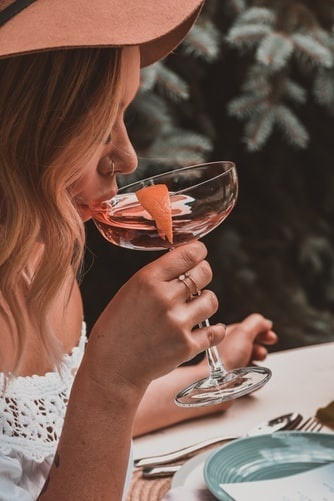whiskey: (90, 168, 271, 395)
